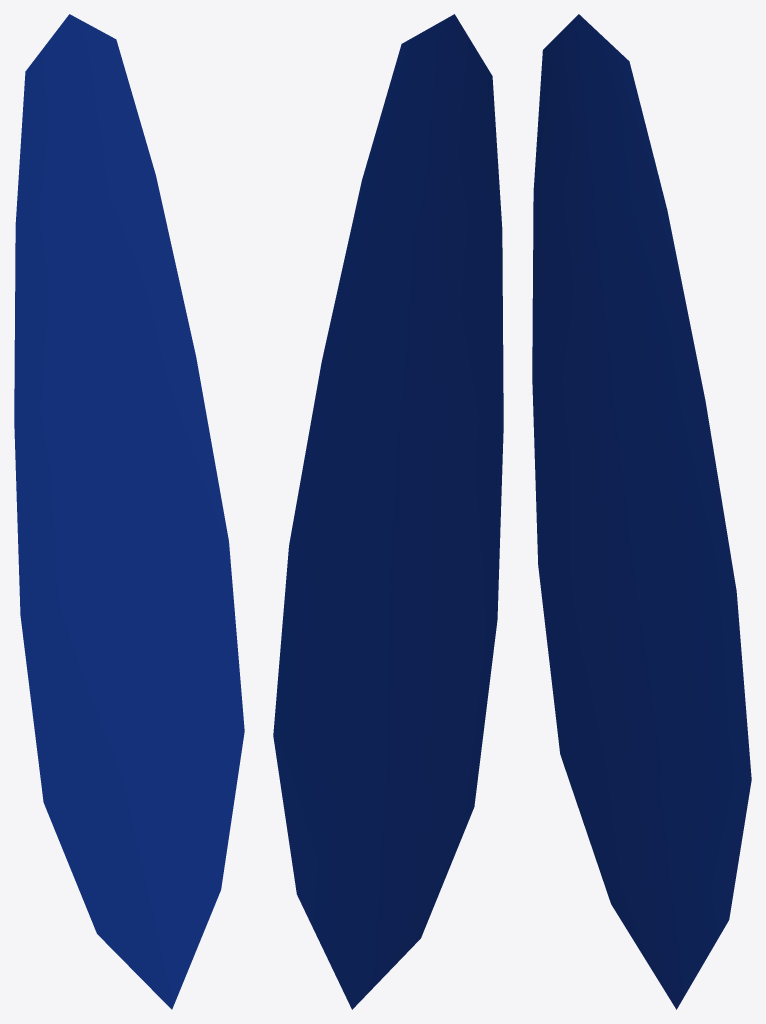
File: ara_feather_flight_primary_007.obj
The picture shows the model from 3 angles, left to right: view 1: azimuth 30°, elevation 25°; view 2: azimuth 150°, elevation 25°; view 3: azimuth 330°, elevation 25°; orthographic projection. The views are drawn at different scales.
Visible parts, largest first — view 1: feather_flight_primary_007; view 2: feather_flight_primary_007; view 3: feather_flight_primary_007.
Boxes of the visible parts, x1,y1,x2,y2 form: feather_flight_primary_007: (14, 14, 244, 1009); feather_flight_primary_007: (273, 14, 503, 1009); feather_flight_primary_007: (532, 14, 751, 1009).
Size of the model in its own units: 0.0311 by 0.1316 by 0.000725.
